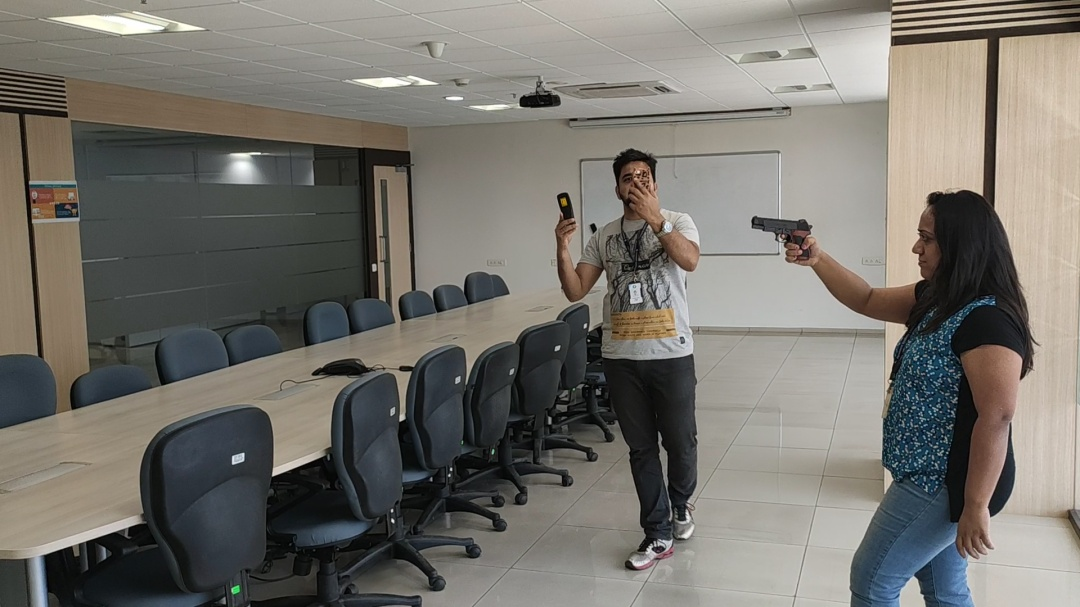gun: (750, 214, 814, 260)
